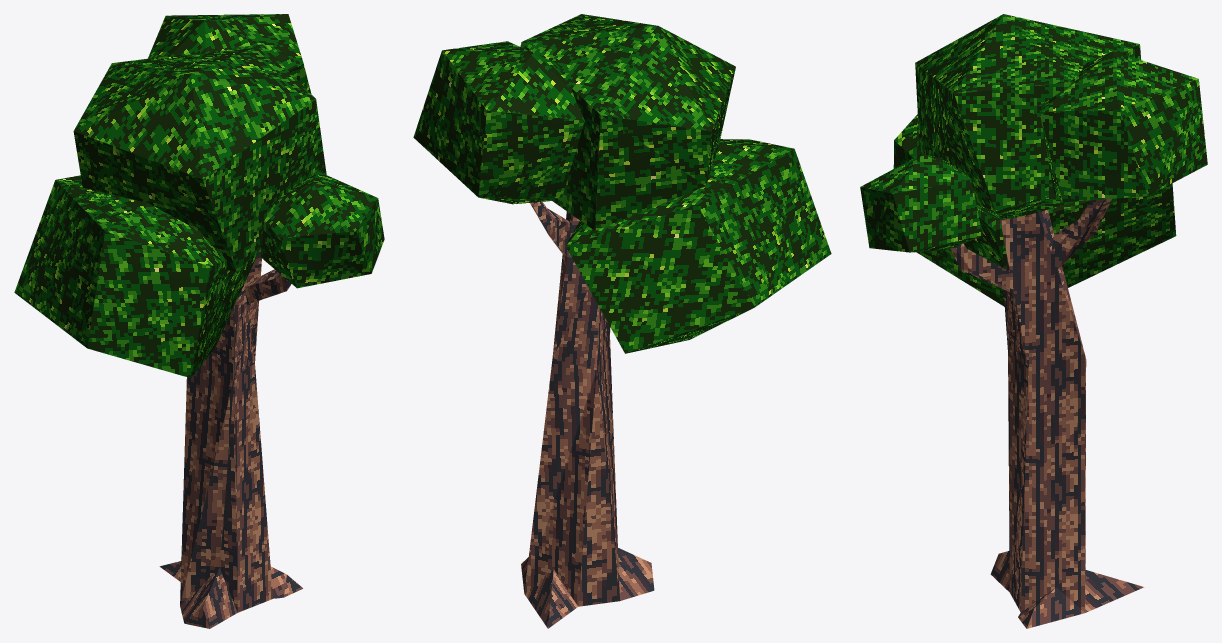
Rendered from Tree3.dae.
3 views of the same model, side by side, from view 1: azimuth 30°, elevation 25°; view 2: azimuth 150°, elevation 25°; view 3: azimuth 270°, elevation 25° (orthographic).
Visible parts, largest first — view 1: Vegetation_Tree_Common_03; view 2: Vegetation_Tree_Common_03; view 3: Vegetation_Tree_Common_03.
Part boxes in pixels (x1,y1,x2,y2): Vegetation_Tree_Common_03: (14, 14, 384, 628); Vegetation_Tree_Common_03: (413, 14, 831, 628); Vegetation_Tree_Common_03: (860, 14, 1207, 628).
Bounding box in the file's own units: 2.94 × 2.88 × 5.06.
